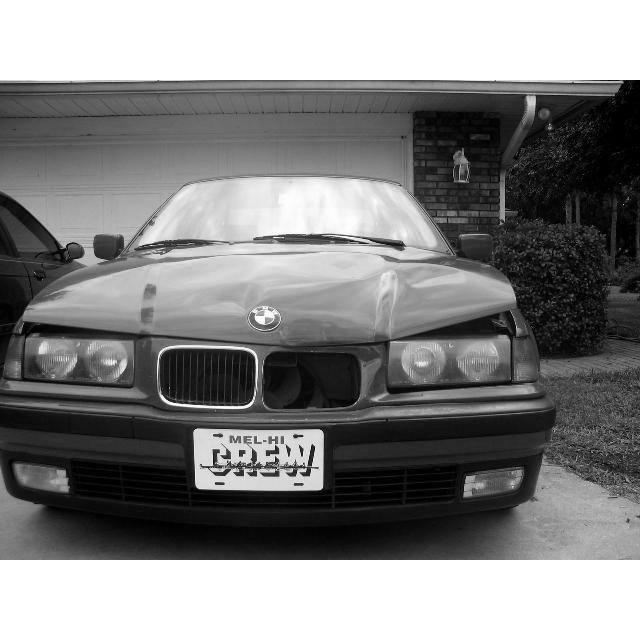bonnet-dent: (110, 249, 502, 331)
